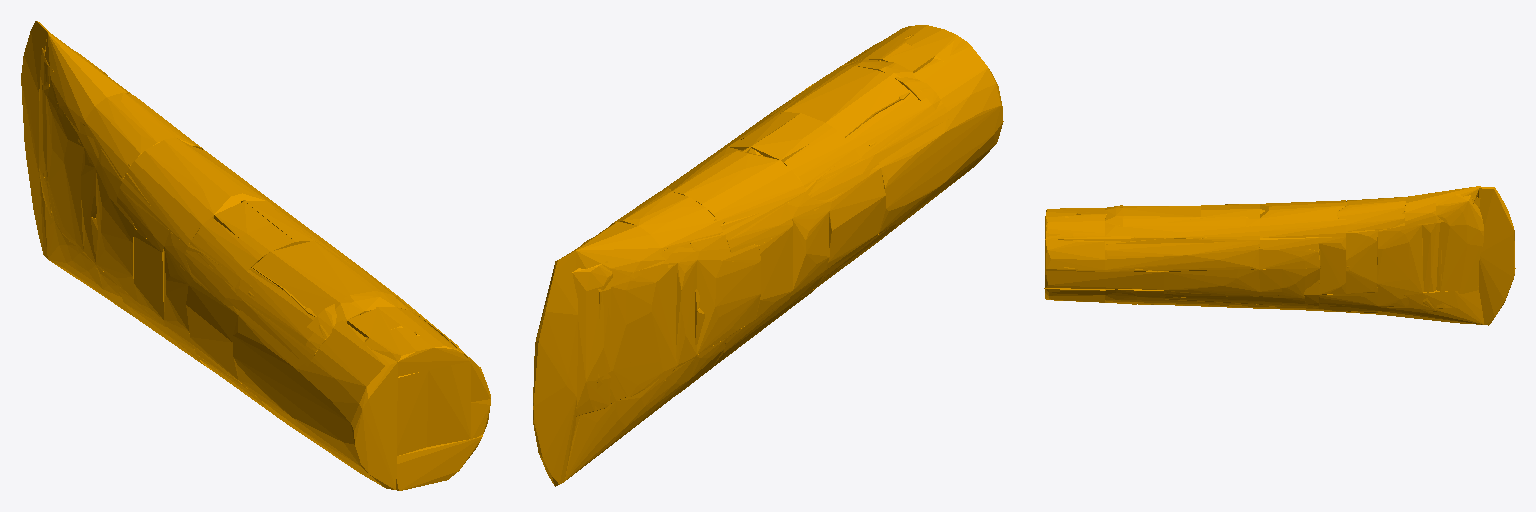
URDF robot description (tube-toothpaste):
<?xml version="1.0" ?>
<robot name="tube-toothpaste">
  <link name="baseLink">
    <contact>
      <lateral_friction value="1.0"/>
      <inertia_scaling value="3.0"/>
    </contact>
    <inertial>
      <origin rpy="0 0 0" xyz="0.000 0.000 0.000"/>
       <mass value=".1"/>
       <inertia ixx="1" ixy="0.0" ixz="0.0" iyy="1" iyz="0.0" izz="1"/>
    </inertial>
    <visual>
      <origin rpy="0 0 0" xyz="0 0 0"/>
      <geometry>
        <mesh filename="tube/tube-toothpaste_signal_kids_bio.obj" scale="1.0 1.0 1.0"/>
      </geometry>
    </visual>
    <collision>
      <origin rpy="0 0 0" xyz="0 0 0"/>
      <geometry>
        <mesh filename="../collision/tube/tube-toothpaste_signal_kids_bio.obj" scale="1.0 1.0 1.0"/>
      </geometry>
    </collision>
  </link>
</robot>
        

--- What the picture shows (computed from the rendered views, not written in the file) ---
Views: 3 orthographic renders of the robot side by side, from view 1: azimuth 30°, elevation 25°; view 2: azimuth 150°, elevation 25°; view 3: azimuth 270°, elevation 25°.
Model tube-toothpaste with 1 links and 0 joints (none), rooted at baseLink, posed all joints at 0.
Visible links, largest first — view 1: baseLink; view 2: baseLink; view 3: baseLink.
Boxes of the visible links, x1=… form: baseLink: x1=21, y1=21, x2=490, y2=490; baseLink: x1=533, y1=25, x2=1003, y2=486; baseLink: x1=1044, y1=186, x2=1515, y2=325.
Bounding box of the posed robot: 0.0267 × 0.1341 × 0.0428 m (x, y, z).
1 mesh visuals loaded from 1 distinct referenced files (1 OBJ).